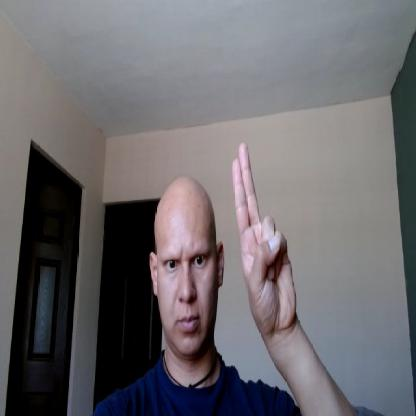U: (230, 140, 296, 328)
